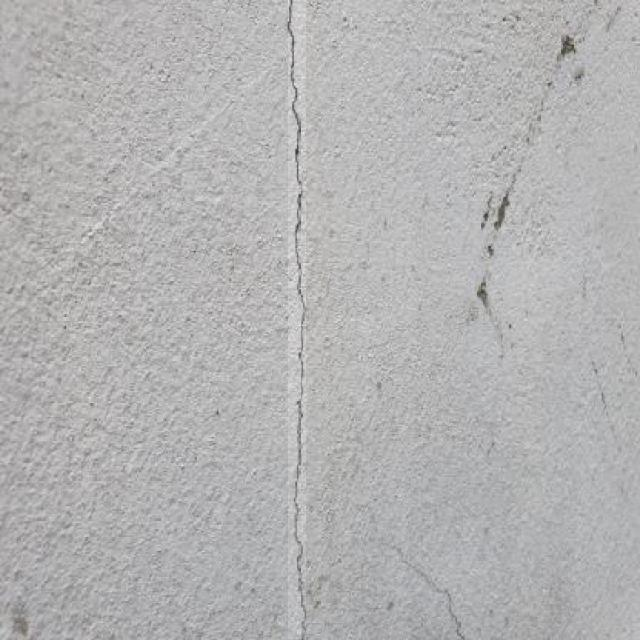vertical crack: (288, 0, 306, 639)
